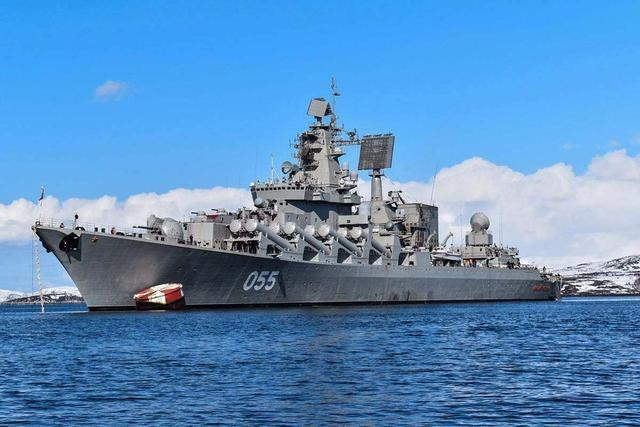warship: (28, 77, 568, 326)
